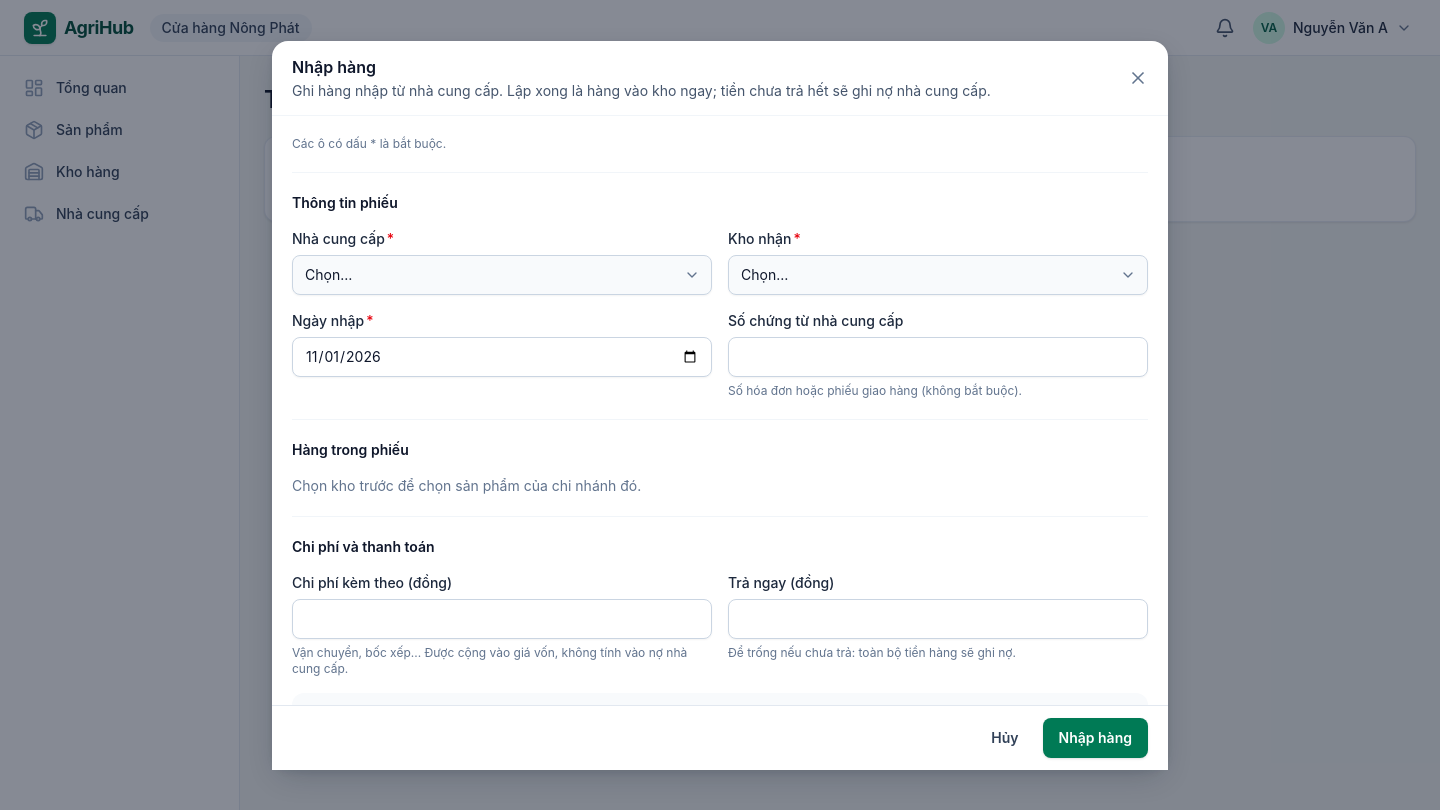
it: nhập hàng: lập phiếu › kho đang kiểm kê bị khóa; lỗi 422 của máy chủ hiện đúng ô
Select "Công ty Phân bón Bình Điền" in the dropdown labelled "Nhà cung cấp" at (502, 274), box [292,254,712,294]
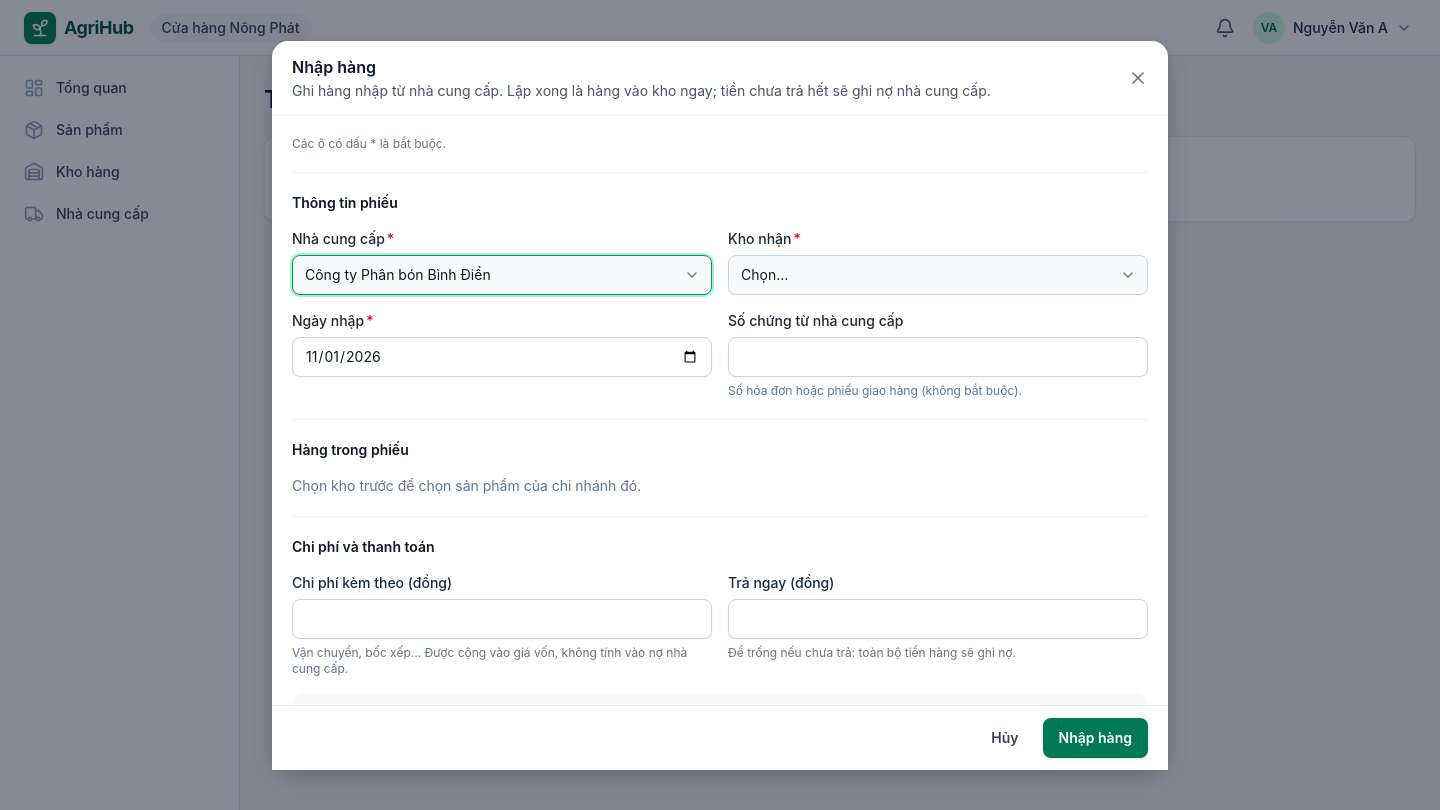
Select "Kho chính" in the dropdown labelled "Kho nhận" at (938, 274), box [728,254,1148,294]
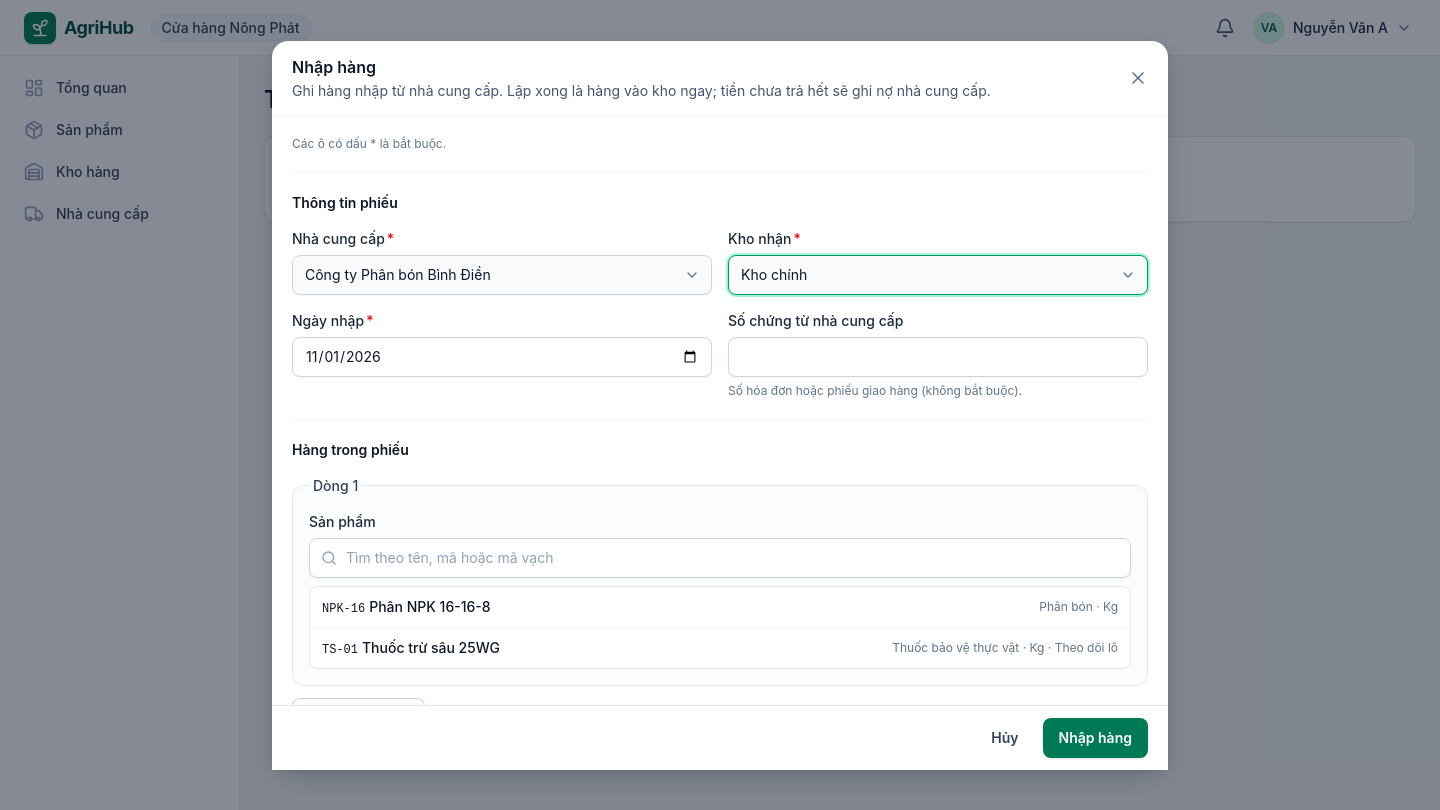
Click the button "NPK-16 Phân NPK 16-16-8 Phân bón · Kg" at (344, 608), box [310,586,1130,626]
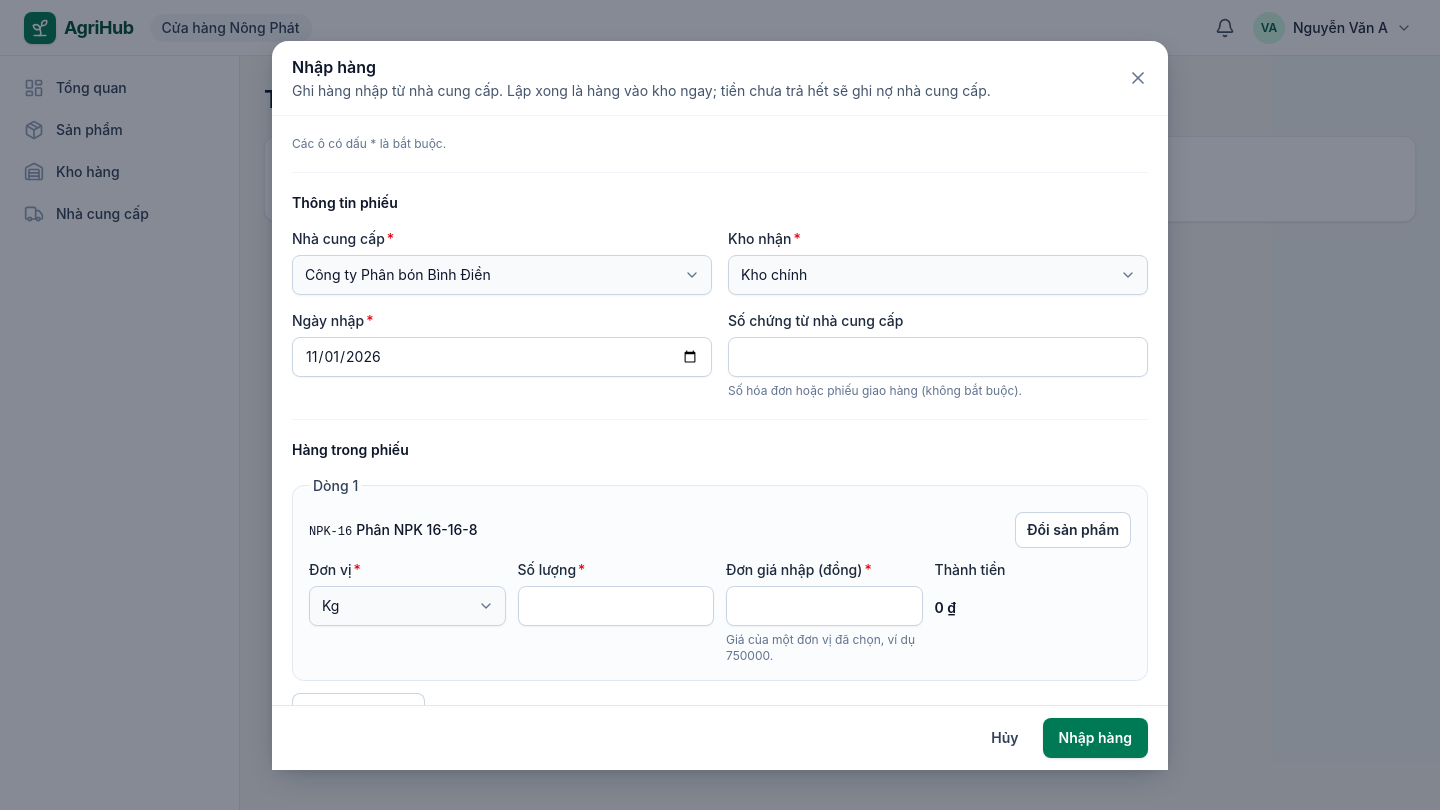
Type "1" into the field labelled "Số lượng" at (616, 606), box [518,586,714,626]
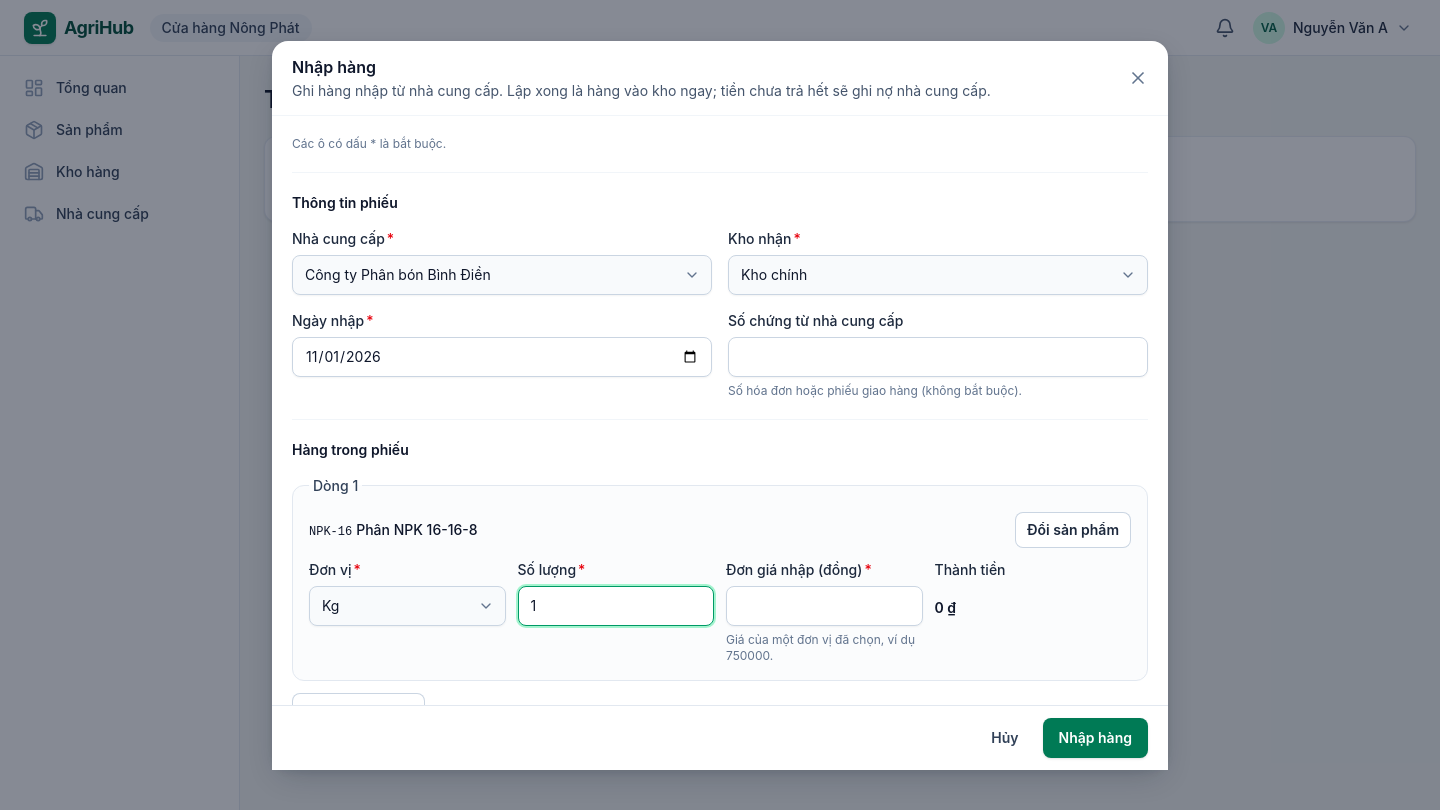
Type "1" into the field labelled "Đơn giá nhập (đồng)" at (824, 606), box [726,586,922,626]
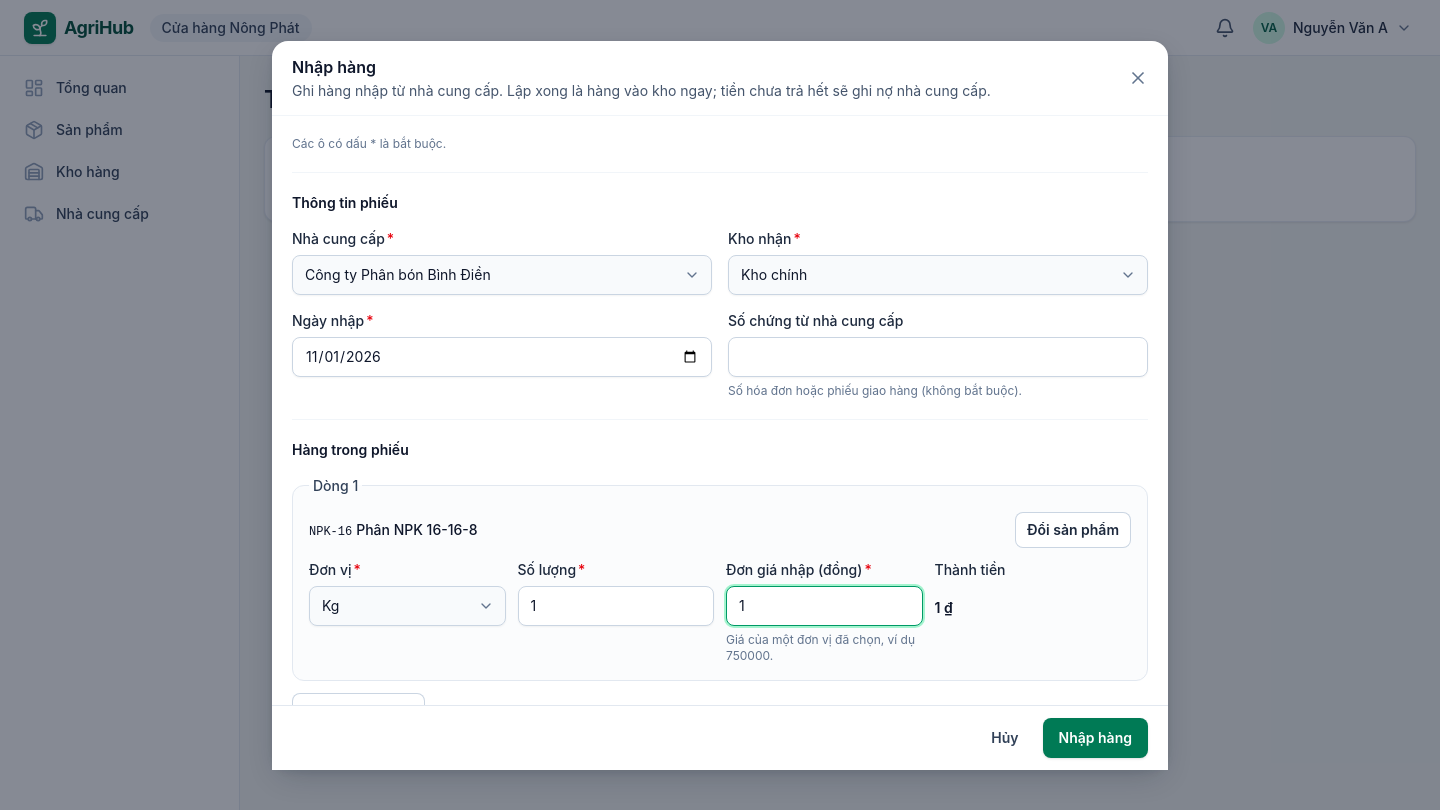
Click the button "Nhập hàng" at (1095, 738), box [1042,718,1148,758]
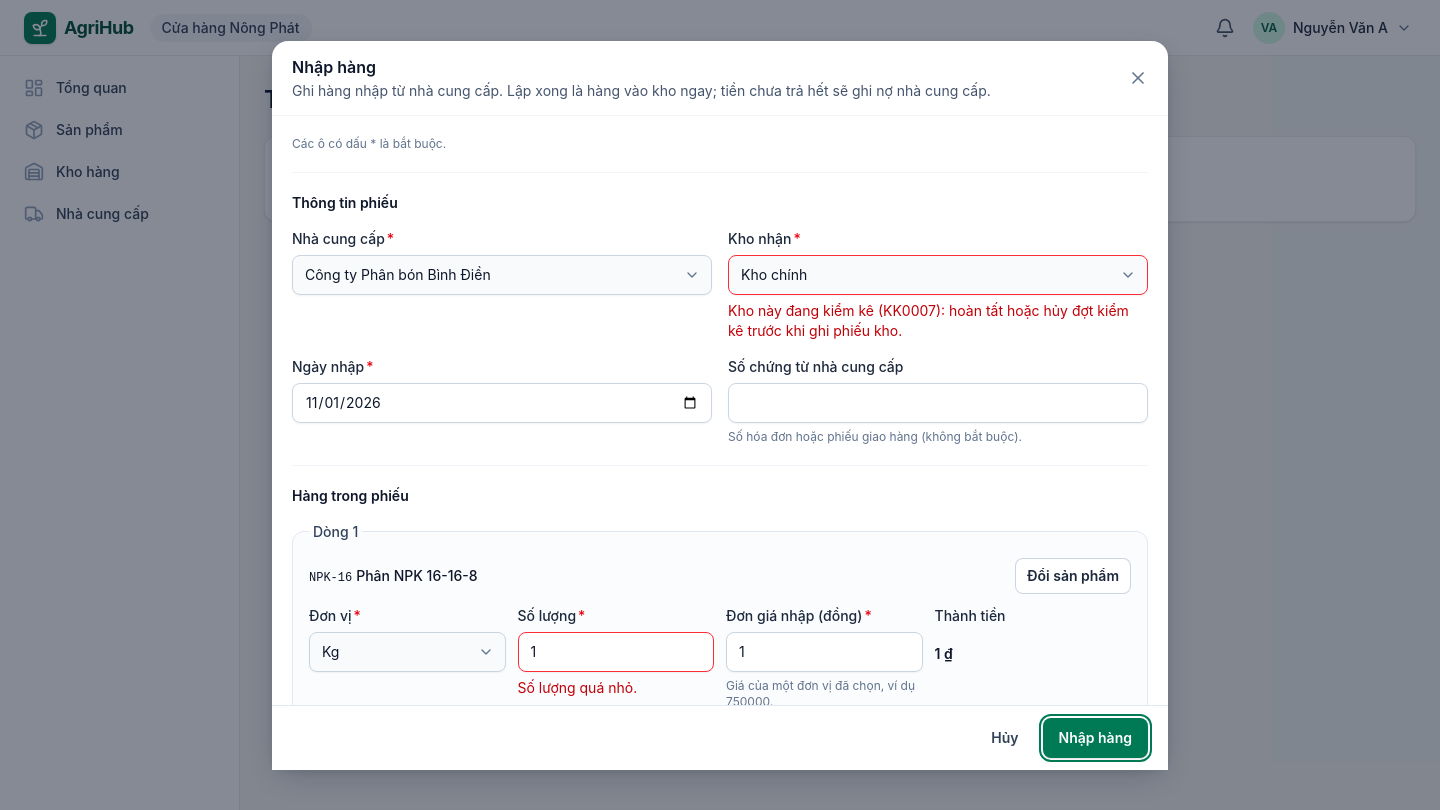
Expected: the text "Số lượng quá nhỏ." is shown, [518,678,637,696]
Expected: the text "Kho này đang kiểm kê (KK0007)" is shown, [728,302,1129,338]
